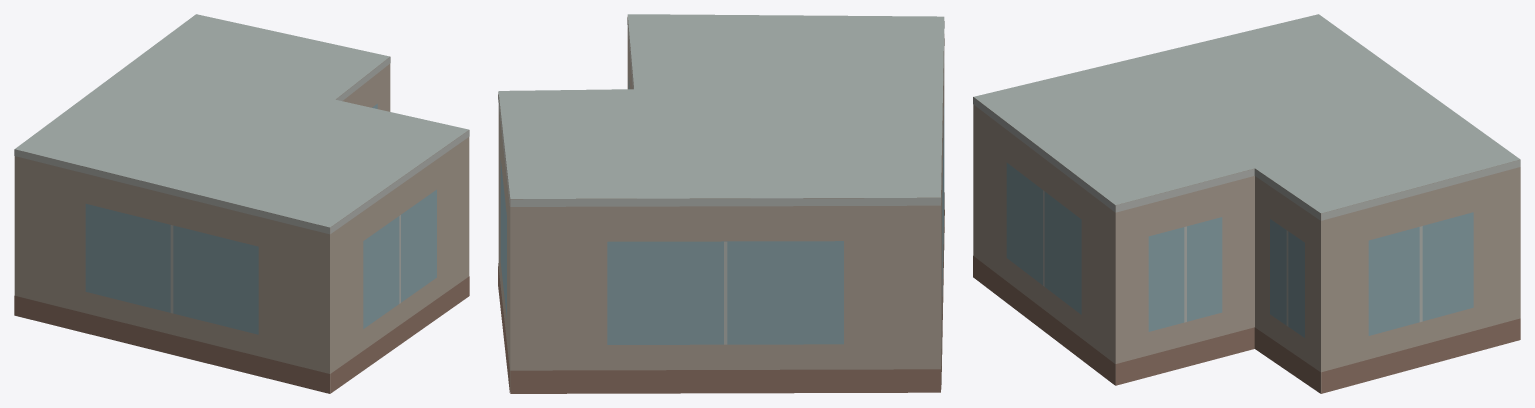
The model's file is survey-upis-32825777.glb.
3 renders of one model, left to right at view 1: azimuth 30°, elevation 25°; view 2: azimuth 150°, elevation 25°; view 3: azimuth 270°, elevation 25°, orthographic. The views are drawn at different scales.
Parts seen in each view (by area): view 1: survey-upis-32825777.tmp; view 2: survey-upis-32825777.tmp; view 3: survey-upis-32825777.tmp.
Boxes of the visible parts, x1,y1,x2,y2 form: survey-upis-32825777.tmp: [14, 14, 469, 393]; survey-upis-32825777.tmp: [498, 14, 944, 393]; survey-upis-32825777.tmp: [973, 14, 1520, 393].
Bounding box in the file's own units: 7.24 × 3.05 × 8.4.
